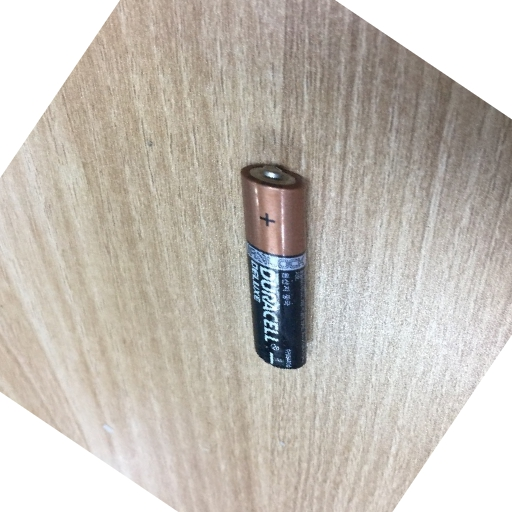Battery_0: (232, 153, 322, 384)
